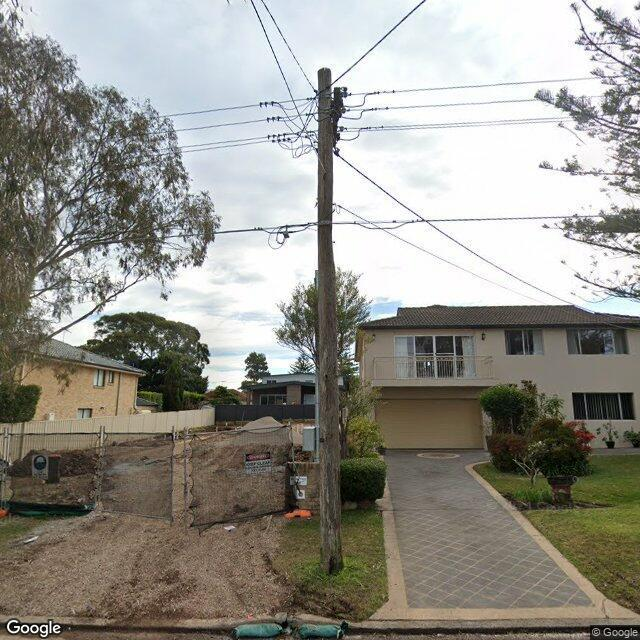crossarm: (328, 87, 345, 153)
timber-pole: (316, 68, 342, 575)
